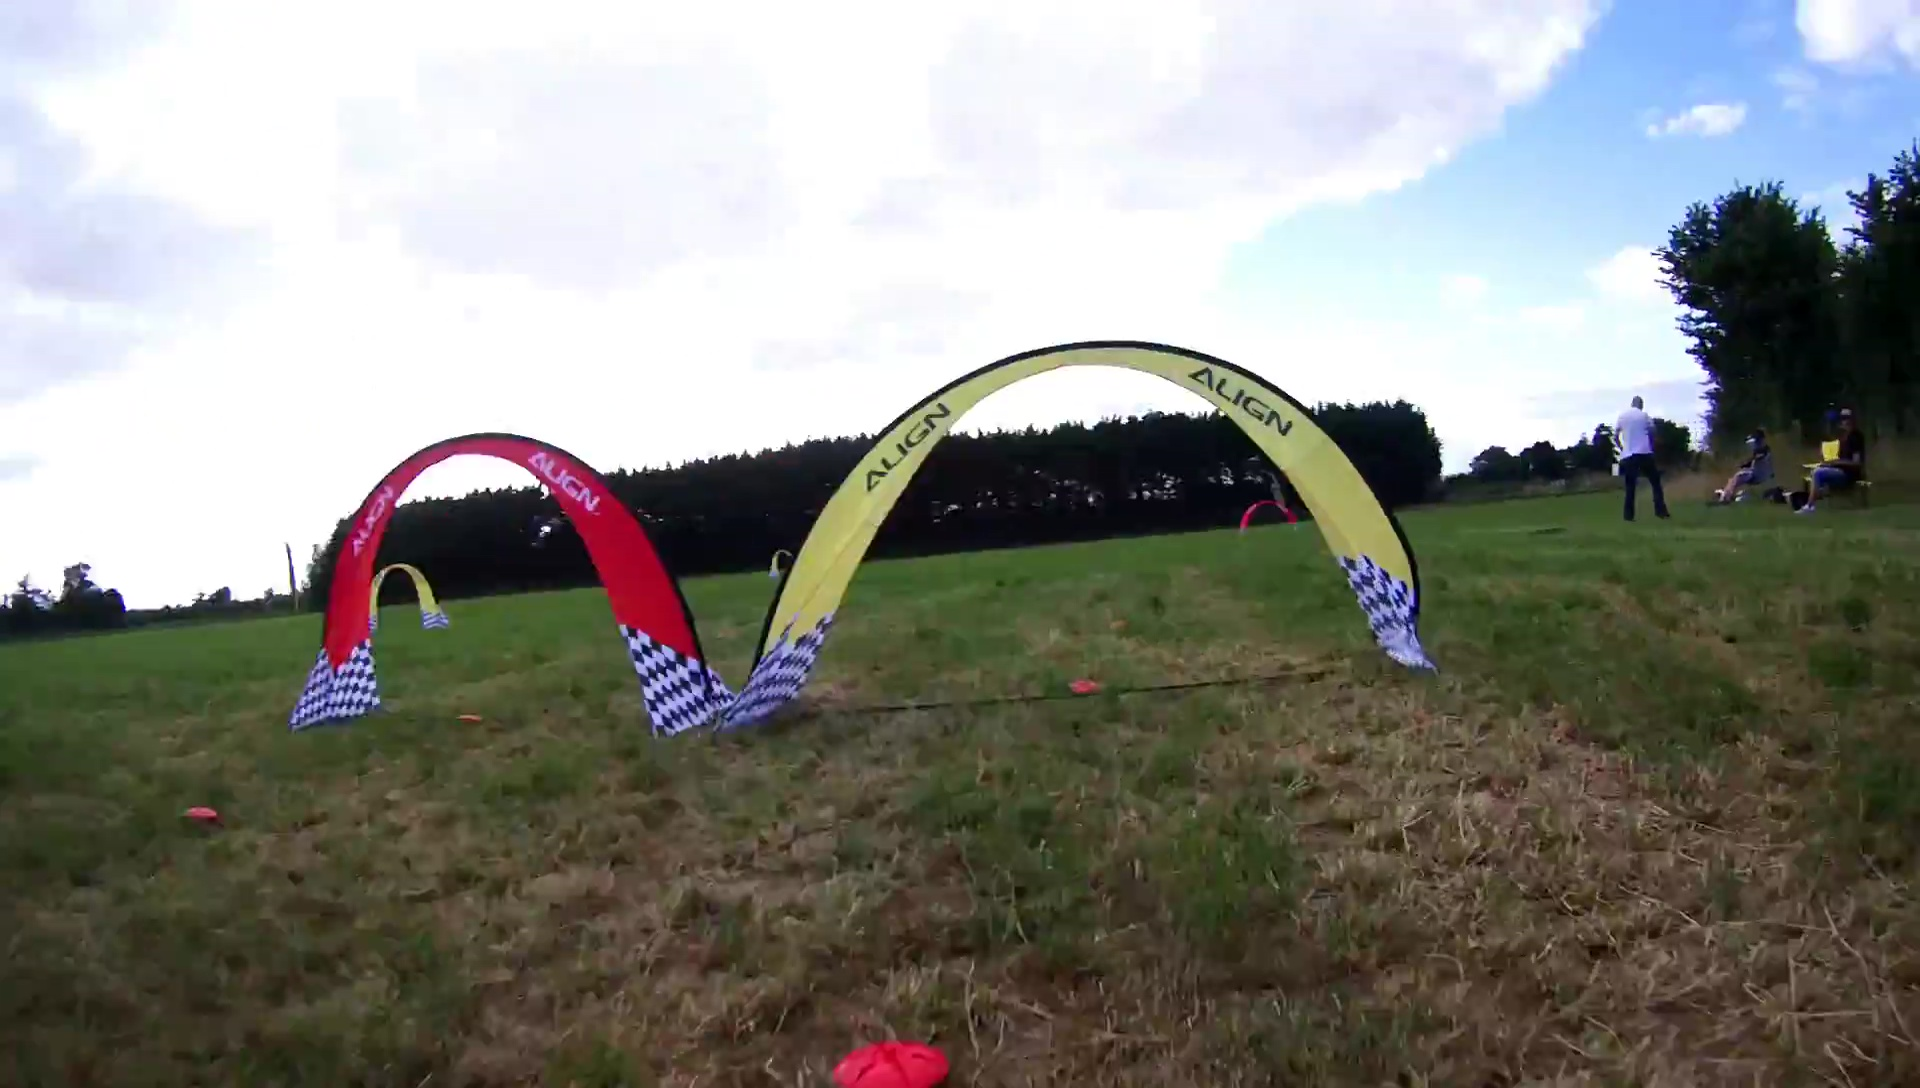gate: (729, 339, 1425, 727), (291, 426, 728, 739), (365, 563, 448, 630), (1237, 499, 1300, 535)
